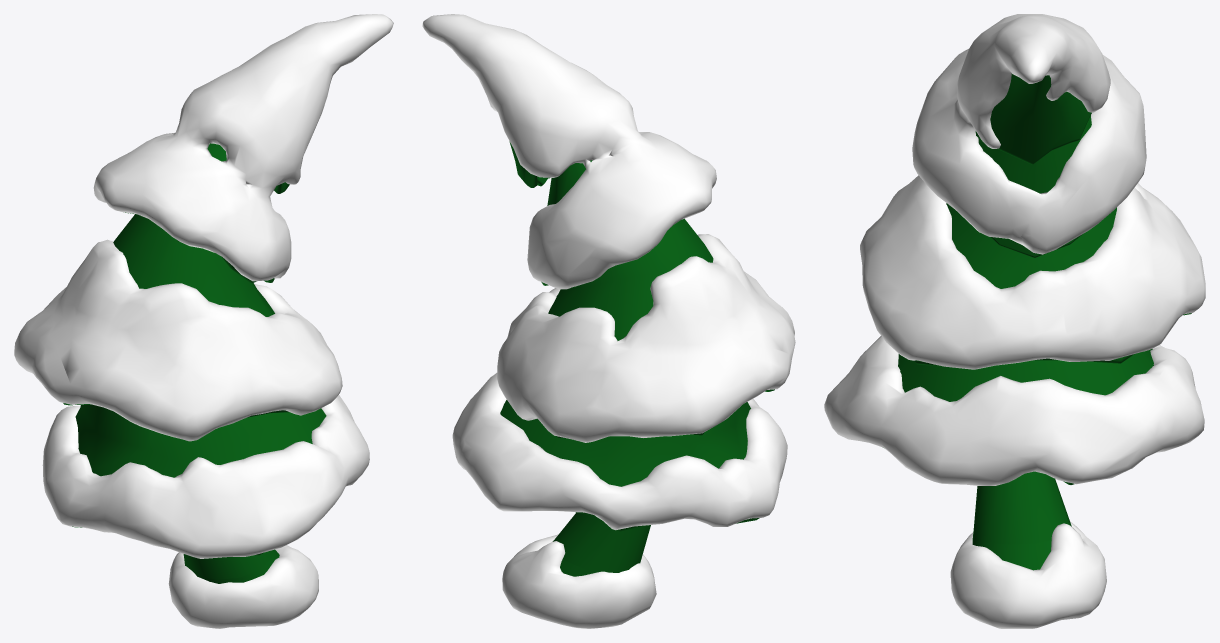
File: bent_tree_V1.fbx
The picture shows the model from 3 angles, left to right: view 1: azimuth 30°, elevation 25°; view 2: azimuth 150°, elevation 25°; view 3: azimuth 270°, elevation 25°; orthographic projection. The views are drawn at different scales.
Parts seen in each view (by area): view 1: BentTree_V1; view 2: BentTree_V1; view 3: BentTree_V1.
Boxes of the visible parts, x1=… form: BentTree_V1: x1=14, y1=14, x2=393, y2=628; BentTree_V1: x1=422, y1=14, x2=795, y2=628; BentTree_V1: x1=824, y1=14, x2=1205, y2=628.
Size of the model in its own units: 3.57 by 5.43 by 2.99.
